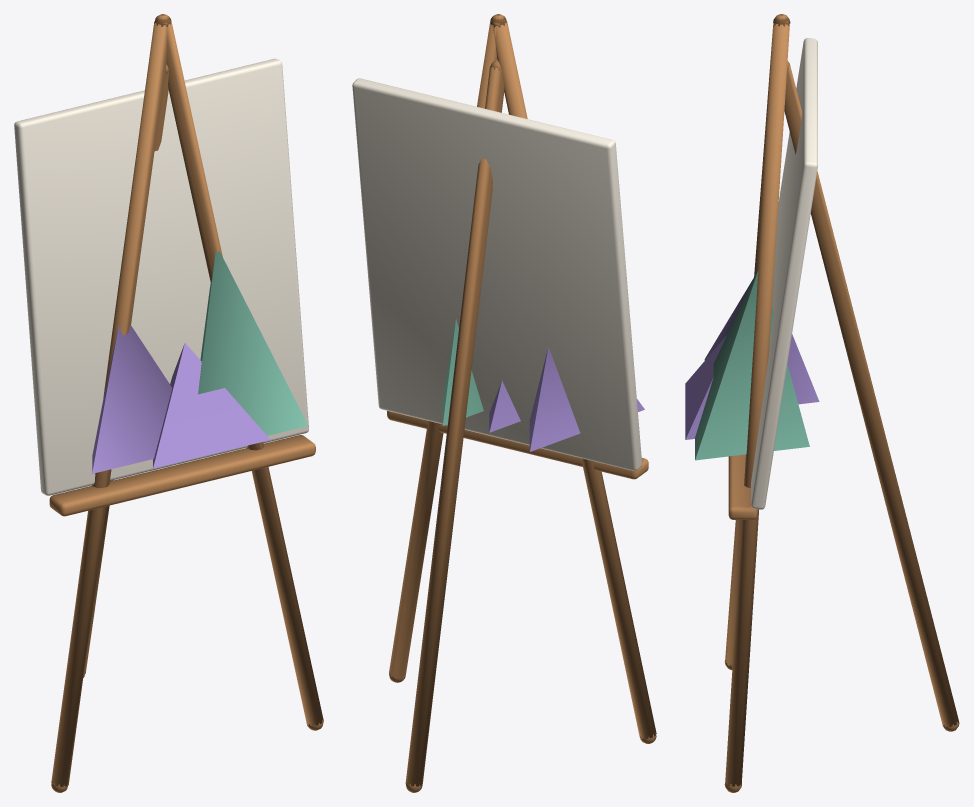
File: gift-finn.glb
3 views of the same model, side by side, from view 1: azimuth 30°, elevation 25°; view 2: azimuth 150°, elevation 25°; view 3: azimuth 270°, elevation 25° (orthographic).
Parts seen in each view (by area): view 1: gift-finn; view 2: gift-finn; view 3: gift-finn.
Boxes of the visible parts, x1=… form: gift-finn: x1=14, y1=14, x2=323, y2=792; gift-finn: x1=352, y1=14, x2=656, y2=792; gift-finn: x1=685, y1=14, x2=959, y2=792.
Bounding box in the file's own units: 0.6354 × 1.64 × 0.5672.
